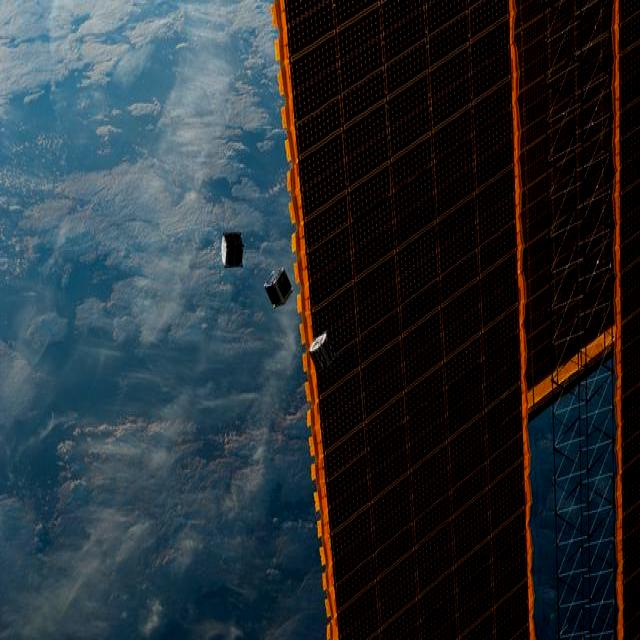satellite: (272, 0, 640, 637), (264, 267, 292, 308), (309, 331, 335, 372), (221, 233, 242, 266), (296, 294, 301, 312)
